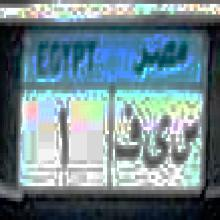1: (56, 105, 73, 177)
faa: (113, 99, 141, 168)
seen: (172, 115, 198, 170)
yaa: (143, 112, 170, 173)
